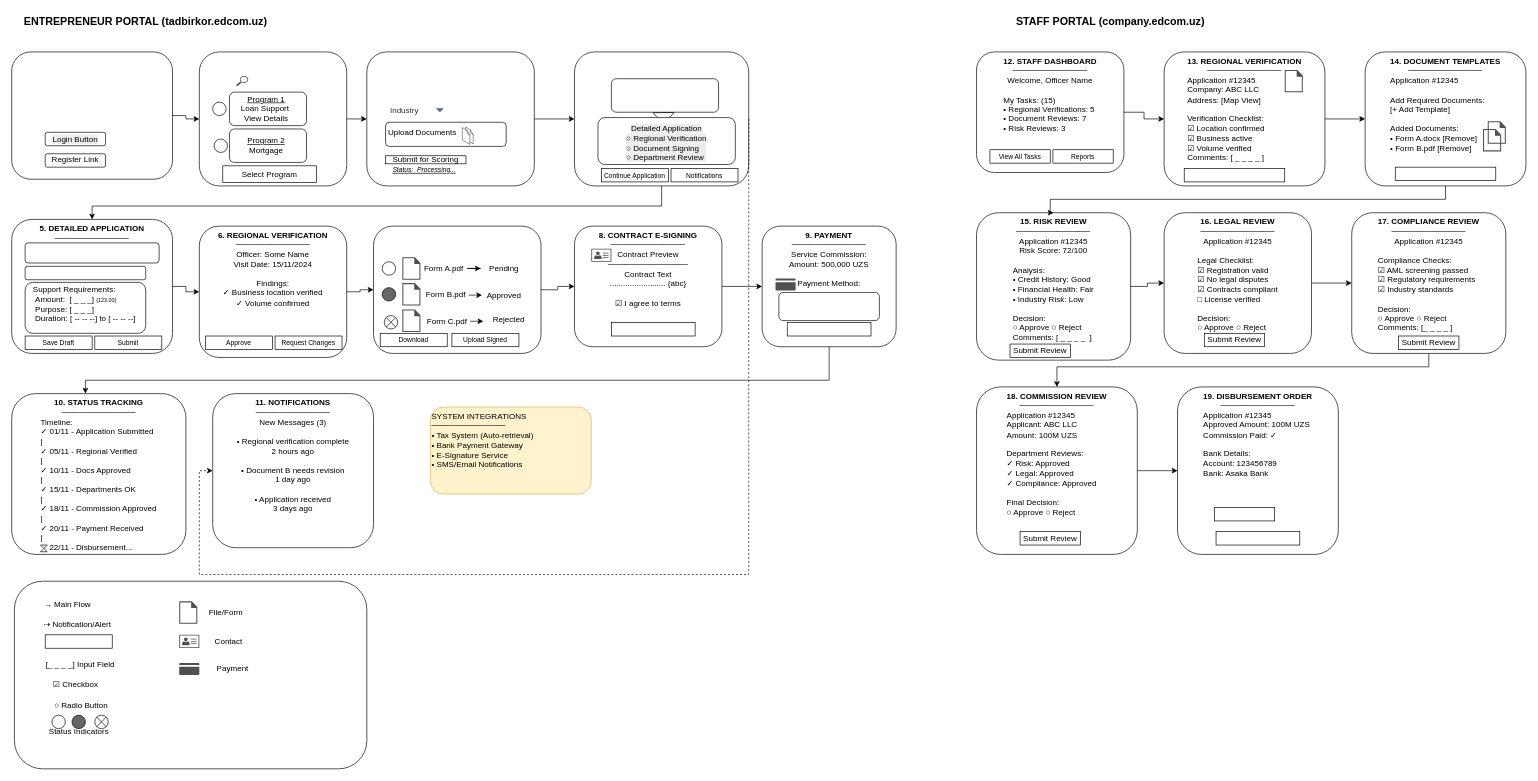
Image size: 1538x781. Some labels were removed from this diagram. Each missing label, with the box of its shape:
1. HOME/LOGIN ───────────── Logo Username: [ _ _ _ _ ] Password: [ _ _ _ _ ]: (11, 51, 173, 179)
2. SUPPORT PROGRAMS ───────────── Search/Filter: (199, 51, 347, 186)
3. INITIAL SCORING ───────────── Company Name: [ _ _ _ _ ] TIN: [ _ _ _ _ ]: (366, 51, 534, 186)
4. DASHBOARD ─────────────: (574, 51, 749, 186)
7. DOCUMENT SIGNING ─────────────: (373, 225, 541, 353)
Application Status: ✓ Initial Scoring: Passed: (611, 78, 719, 112)
Approve Disbursement: (1215, 531, 1300, 545)
Business Operations:: (24, 242, 159, 263)
Button: (45, 634, 112, 648)
Create Order: (1214, 507, 1275, 521)
Proceed to Payment: (787, 322, 871, 336)
Send to Enterprenour: (1395, 166, 1496, 181)
Sign Electronically: (611, 322, 695, 336)
Submit Report: (1184, 168, 1285, 182)
Text Area ......: (24, 266, 146, 280)
○ Humo ○ Uzcard ○ Bank Transfer: (778, 292, 879, 321)
